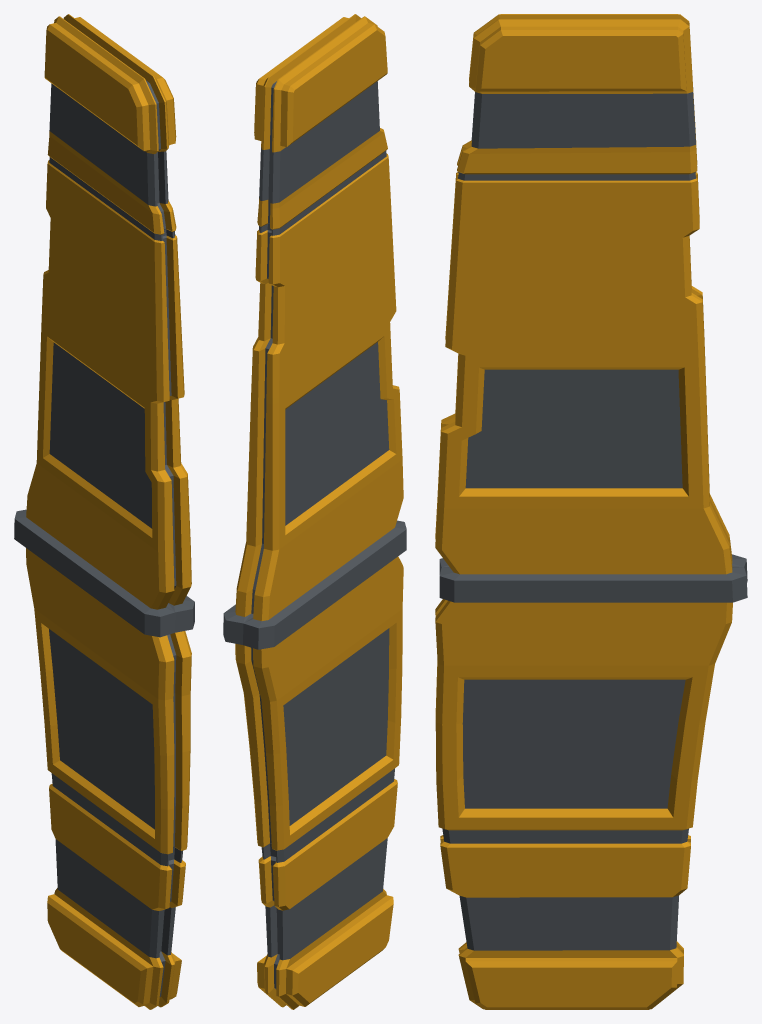
Rendered from Fighter_05_Wing_RIght_Yellow.fbx.
3 views of the same model, side by side, from view 1: azimuth 30°, elevation 25°; view 2: azimuth 150°, elevation 25°; view 3: azimuth 270°, elevation 25° (orthographic). The views are drawn at different scales.
Visible parts, largest first — view 1: Fighter_05_Wing_RIght_Yellow; view 2: Fighter_05_Wing_RIght_Yellow; view 3: Fighter_05_Wing_RIght_Yellow.
Boxes of the visible parts, x1,y1,x2,y2 form: Fighter_05_Wing_RIght_Yellow: (14, 14, 194, 1009); Fighter_05_Wing_RIght_Yellow: (223, 14, 406, 1009); Fighter_05_Wing_RIght_Yellow: (435, 14, 747, 1009).
Size of the model in its own units: 103 by 1811 by 518.
1 material, 1 textured.
